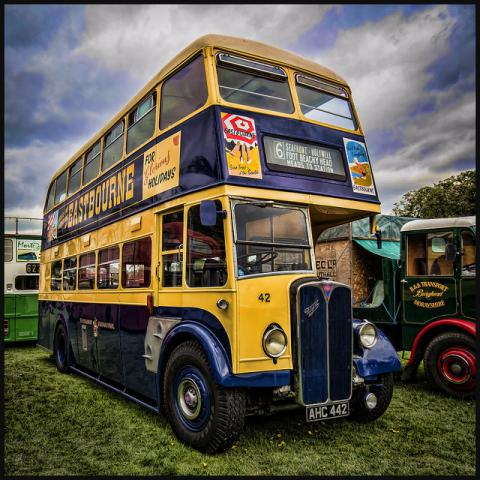bus: (35, 37, 406, 457), (0, 234, 42, 342)
truck: (310, 216, 475, 397)
